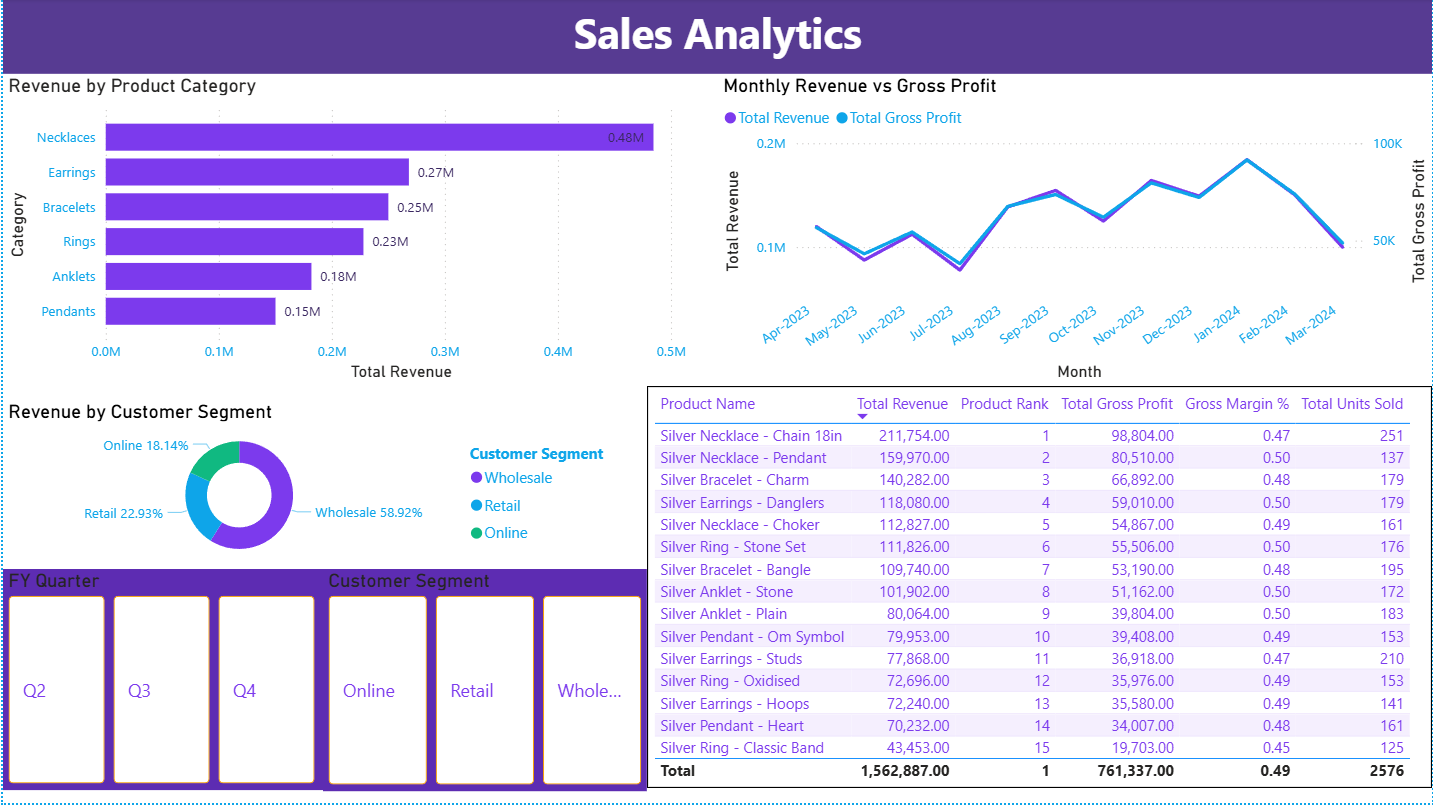

The page's visual inventory and layout, read from the dashboard file:
{"tool":"powerbi","page":{"name":"Sales Analytics","canvas":[1280,720],"ordinal":1},"visuals":[{"type":"clusteredBarChart","title":"Revenue by Product Category","fields":{"Category":["Product_Master.Category"],"Y":["_Measures.Total Revenue"]},"box":[0,66.9,640.5,279.8],"z":0},{"type":"lineChart","title":"Monthly Revenue vs Gross Profit","fields":{"Category":["Date_Table.Month"],"Y":["_Measures.Total Revenue"],"Y2":["_Measures.Total Gross Profit"]},"box":[640.5,66.9,639.5,279.8],"z":1000},{"type":"donutChart","title":"Revenue by Customer Segment","fields":{"Category":["Sales_Transactions.Customer Segment"],"Y":["_Measures.Total Revenue"]},"box":[0,359.4,559.1,151.3],"z":2000},{"type":"tableEx","fields":{"Values":["Product_Master.Product Name","_Measures.Total Revenue","Customers.Product Rank","_Measures.Total Gross Profit","_Measures.Gross Margin %","_Measures.Total Units Sold"]},"box":[576.9,346.8,703.1,360.5],"z":3000},{"type":"advancedSlicerVisual","fields":{"Values":["Date_Table.FY Quarter"]},"box":[0,510.7,286.9,197.6],"z":4000},{"type":"advancedSlicerVisual","fields":{"Values":["Sales_Transactions.Customer Segment"]},"box":[286.9,510.7,290,198.6],"z":5000},{"type":"textbox","box":[0,0,1280,67.3],"z":6000}]}

Visuals, with their boxes in screenshot pixels (x1, y1, x2, y2), scaled from the page's 1280x720 canvas onto the 1433x805 screenshot:
"Revenue by Product Category" clusteredBarChart: (x1=0, y1=75, x2=717, y2=388)
"Monthly Revenue vs Gross Profit" lineChart: (x1=717, y1=75, x2=1432, y2=388)
"Revenue by Customer Segment" donutChart: (x1=0, y1=402, x2=626, y2=571)
tableEx - Product_Master.Product Name x _Measures.Total Revenue: (x1=646, y1=388, x2=1432, y2=791)
advancedSlicerVisual - Date_Table.FY Quarter: (x1=0, y1=571, x2=321, y2=792)
advancedSlicerVisual - Sales_Transactions.Customer Segment: (x1=321, y1=571, x2=646, y2=793)
textbox: (x1=0, y1=0, x2=1432, y2=75)
